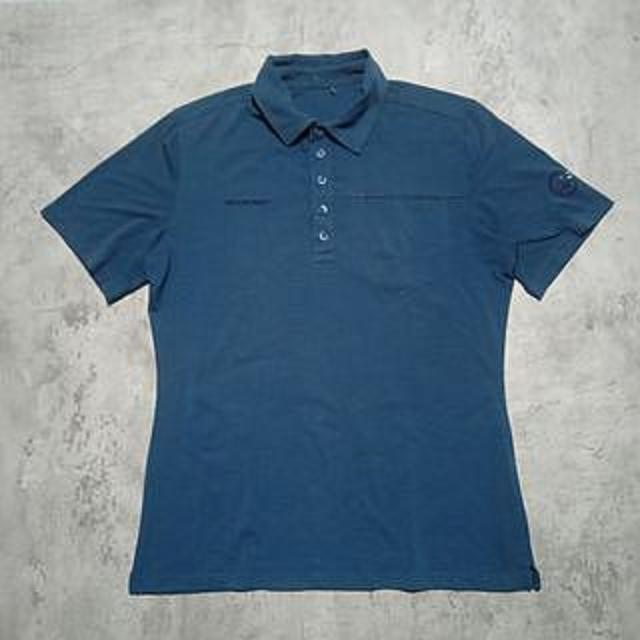T_SHIRT: (25, 44, 623, 598)
